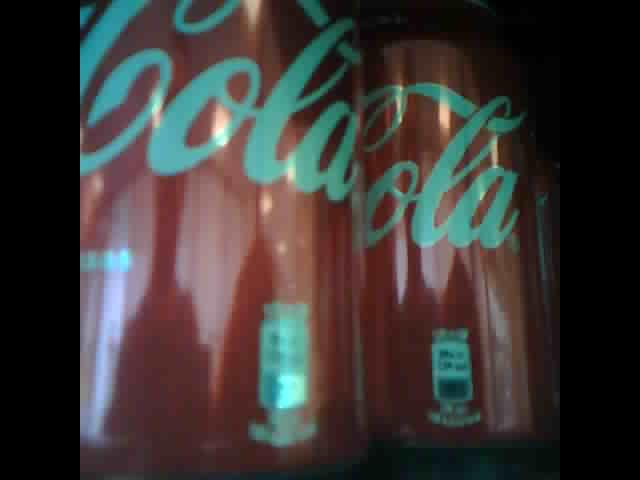coca cola: (81, 2, 545, 478)
